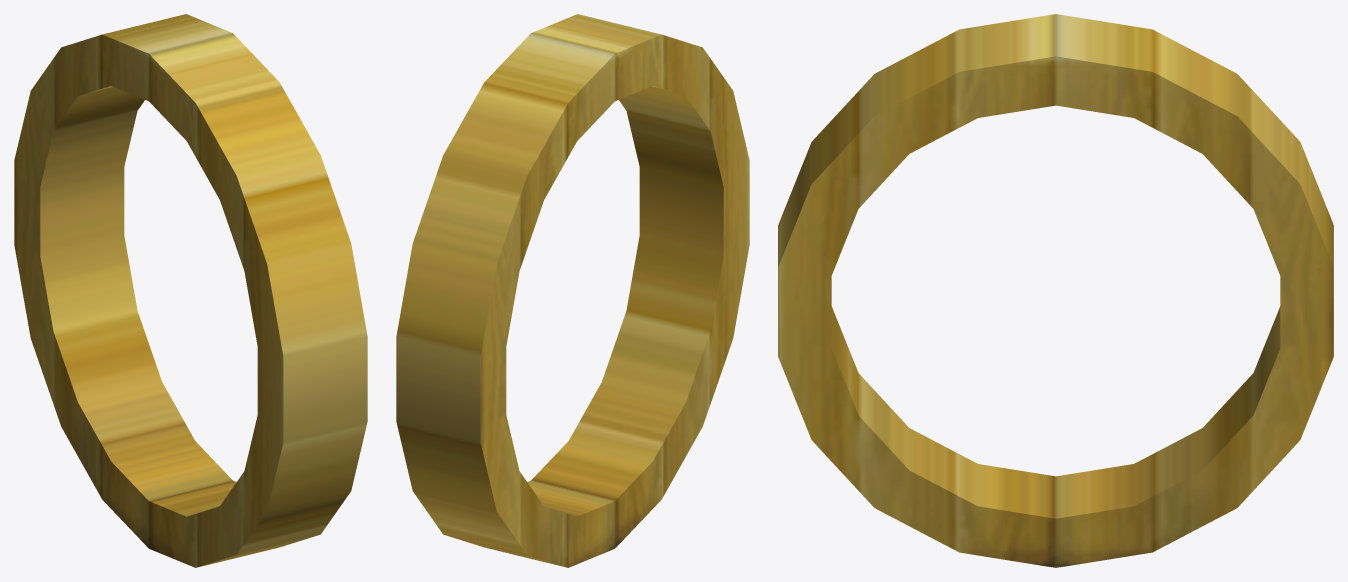
Rendered from HTOWN01_MILLDOORWAY03.fbx.
3 views of the same model, side by side, from view 1: azimuth 30°, elevation 25°; view 2: azimuth 150°, elevation 25°; view 3: azimuth 270°, elevation 25° (orthographic). The views are drawn at different scales.
Parts seen in each view (by area): view 1: HTOWN01_MILLDOORWAY03; view 2: HTOWN01_MILLDOORWAY03; view 3: HTOWN01_MILLDOORWAY03.
Boxes of the visible parts, box(x1,y1,x2,y2) form: HTOWN01_MILLDOORWAY03: box(14, 14, 367, 567); HTOWN01_MILLDOORWAY03: box(396, 14, 749, 567); HTOWN01_MILLDOORWAY03: box(778, 14, 1333, 567).
Size of the model in its own units: 5362 by 30150 by 29692.
Materials: 1 (1 with a texture image).
